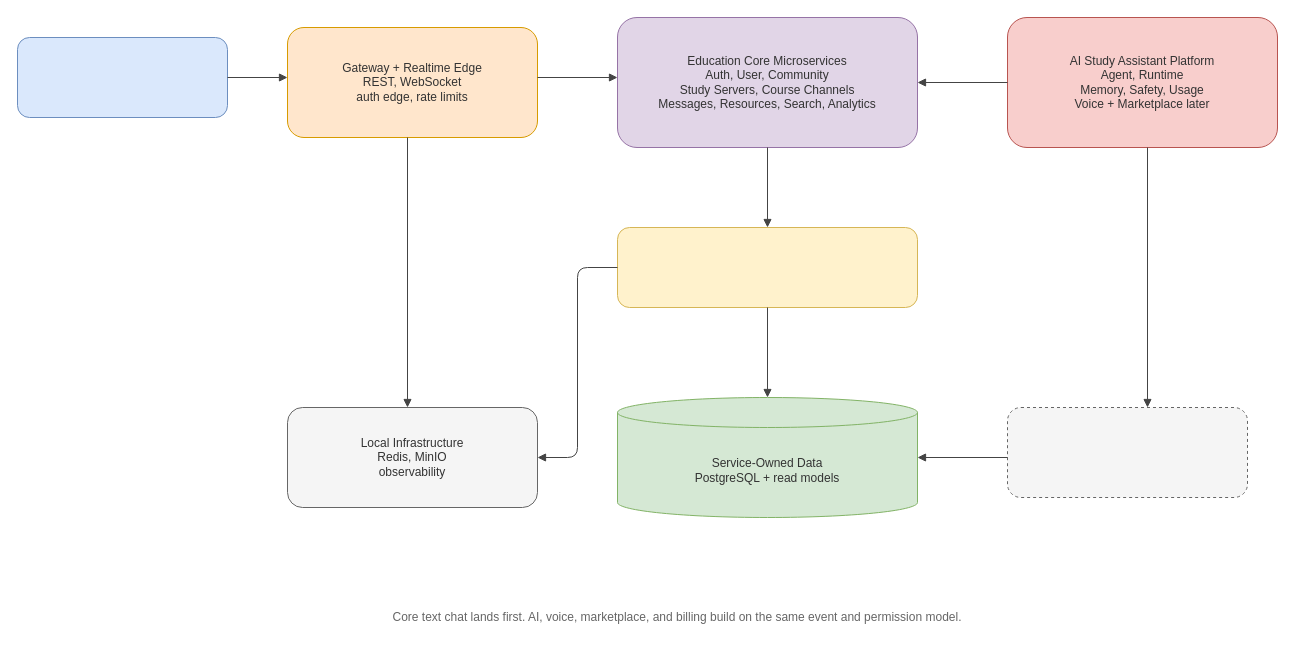
Image size: 1295x665. Some labels were removed from this diagram. The centre of each missing label's shape, as x and y in pixels:
"External Providers LLMs + STT/TTS" belongs at point (1127, 452).
"React TypeScript Vite Client" belongs at point (122, 77).
"Redpanda / Kafka Event Broker" belongs at point (767, 267).
